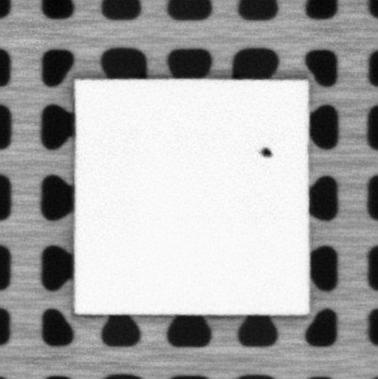DIE_INK: (257, 143, 273, 162)
